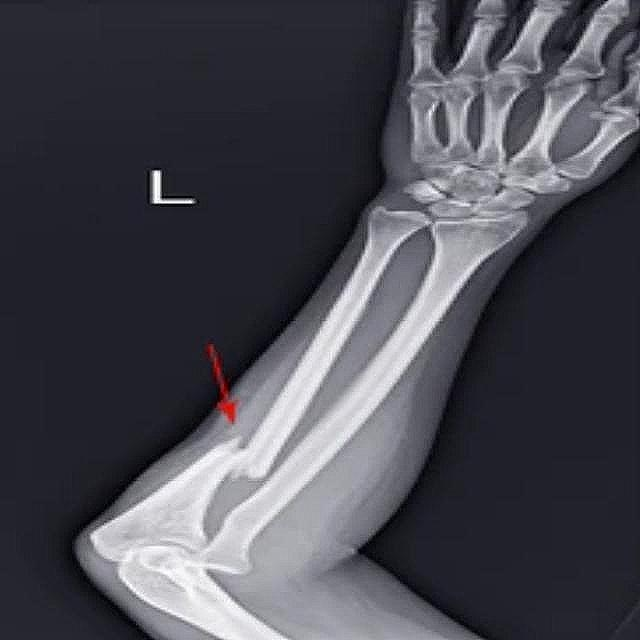bone: (191, 432, 294, 484)
